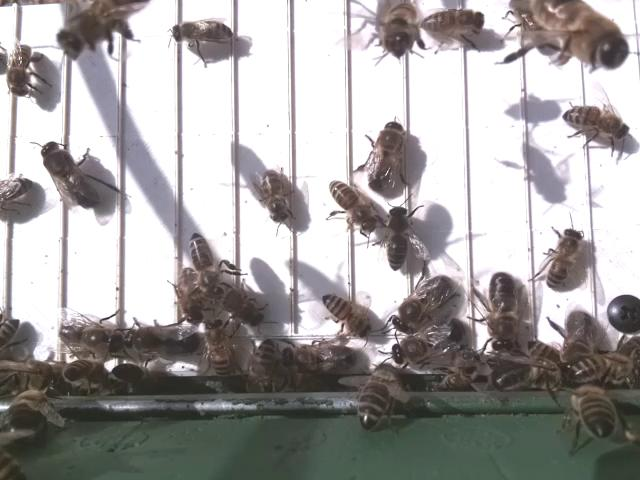Drone: (36, 136, 101, 214), (389, 272, 456, 336), (118, 319, 204, 362), (363, 118, 408, 194), (484, 267, 521, 359)
Worker: (562, 99, 632, 146), (328, 176, 379, 239), (541, 227, 588, 292), (317, 288, 373, 341), (380, 201, 416, 275), (256, 164, 295, 227), (416, 6, 489, 39), (188, 228, 224, 294), (169, 16, 238, 50), (205, 312, 234, 387), (5, 42, 40, 99)
